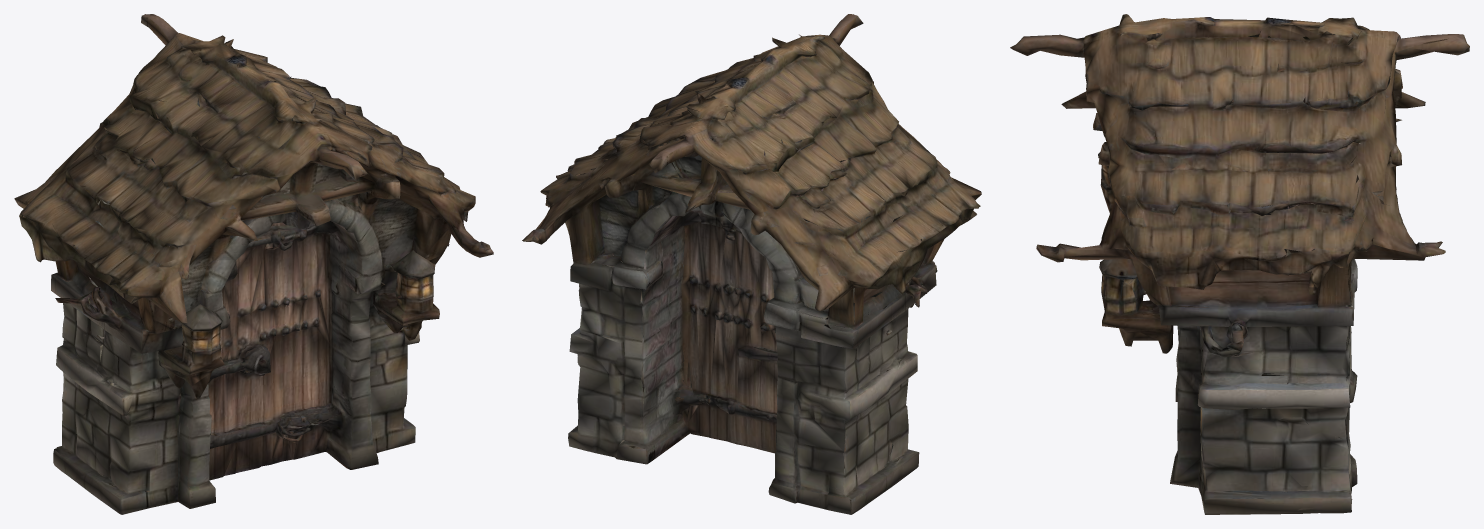
The model's file is Ash_Mine_Gatehouse_Door.glb.
3 views of the same model, side by side, from view 1: azimuth 30°, elevation 25°; view 2: azimuth 150°, elevation 25°; view 3: azimuth 270°, elevation 25° (orthographic). The views are drawn at different scales.
Parts seen in each view (by area): view 1: Object_4, Object_5; view 2: Object_4, Object_5; view 3: Object_4, Object_5.
Boxes of the visible parts, x1,y1,x2,y2 form: Object_4: (19,14,493,514); Object_5: (14,14,391,469); Object_4: (538,14,981,514); Object_5: (522,82,925,514); Object_4: (1010,14,1461,514); Object_5: (1230,17,1469,511).
Bounding box in the file's own units: 1.96 × 1.99 × 1.95.
1 material, 1 textured.
